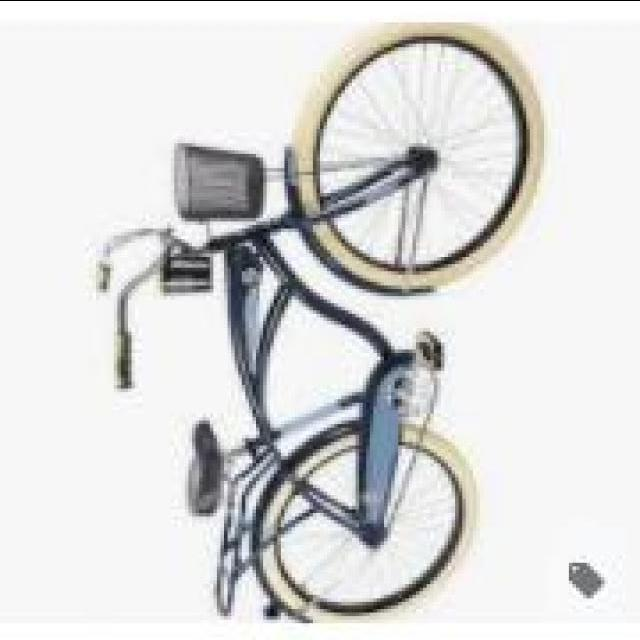bicycle: (101, 22, 545, 616)
